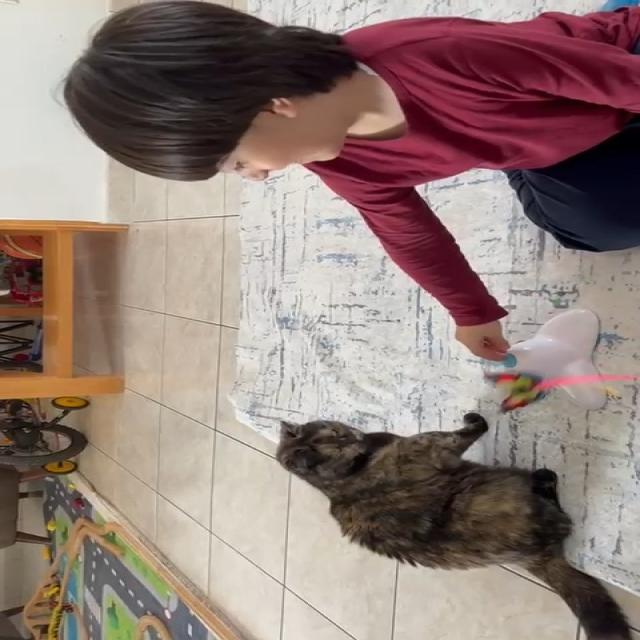authorized: (273, 412, 632, 640)
